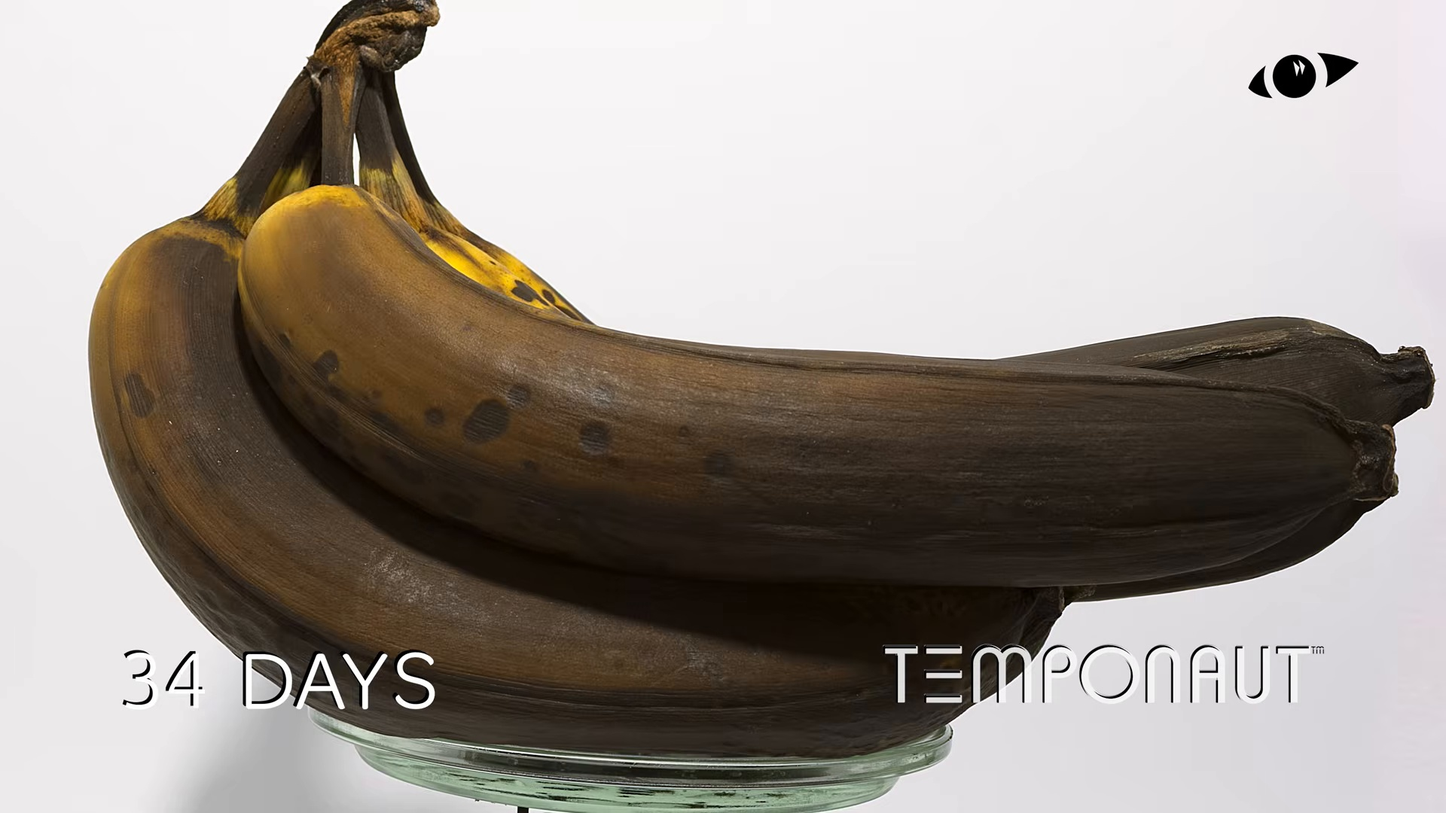banana_rotten: (84, 0, 1431, 805)
